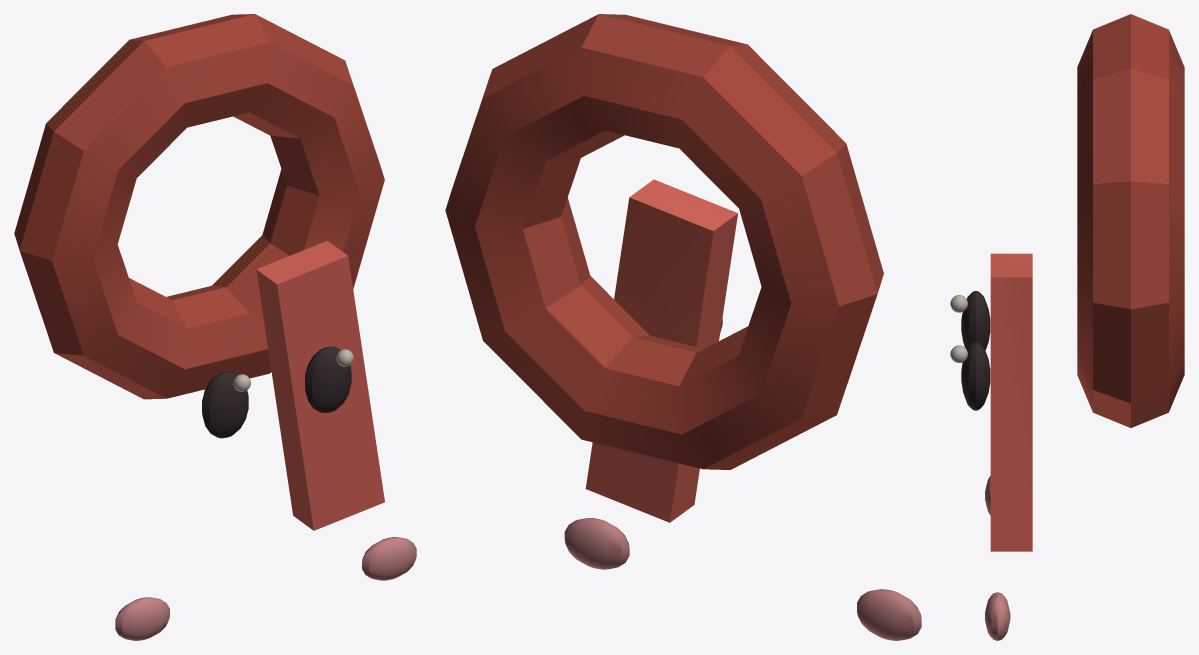
3 views of the same model, side by side, from view 1: azimuth 30°, elevation 25°; view 2: azimuth 150°, elevation 25°; view 3: azimuth 270°, elevation 25° (orthographic). The views are drawn at different scales.
Parts seen in each view (by area): view 1: pet_p4519e338; view 2: pet_p4519e338; view 3: pet_p4519e338.
Boxes of the visible parts, x1,y1,x2,y2 form: pet_p4519e338: [14, 14, 416, 640]; pet_p4519e338: [445, 14, 921, 640]; pet_p4519e338: [950, 14, 1184, 640].
Bounding box in the file's own units: 0.35 × 0.4953 × 0.1964.
